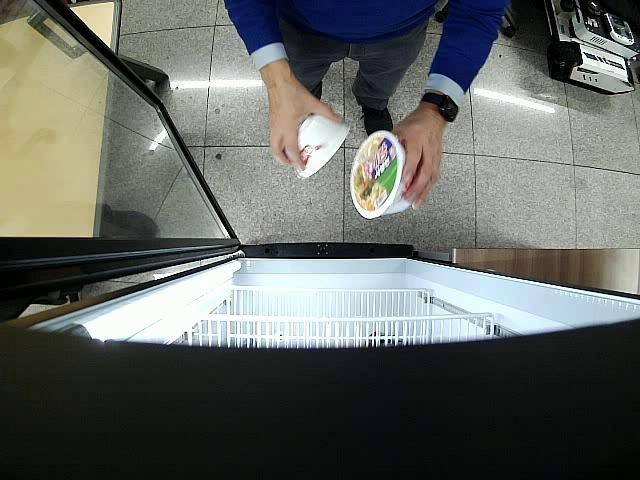09_yukGaeJang: (351, 132, 411, 220), (296, 114, 352, 179)
